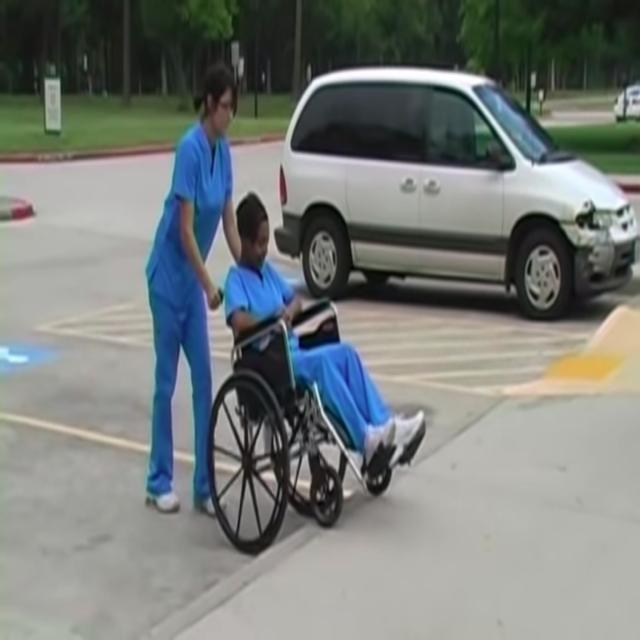wheelchairs: (202, 275, 396, 552)
